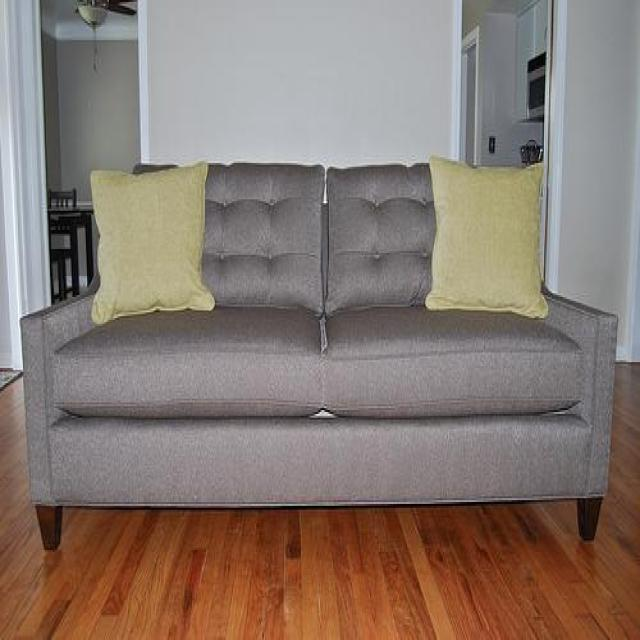sofa: (18, 160, 620, 558)
